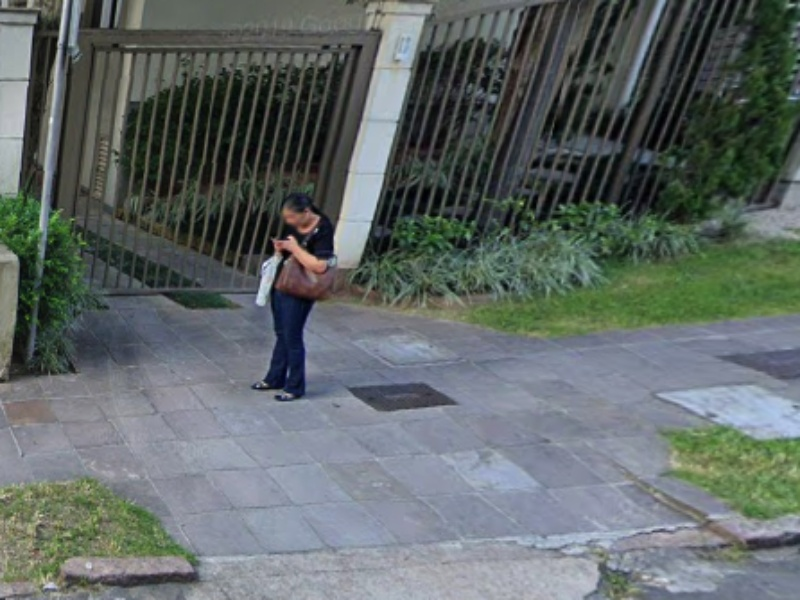g54: (195, 483, 741, 600)
